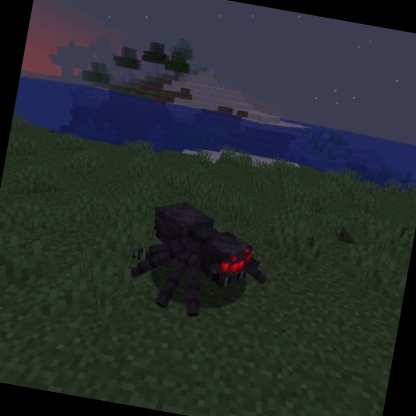spider: (121, 191, 279, 331)
